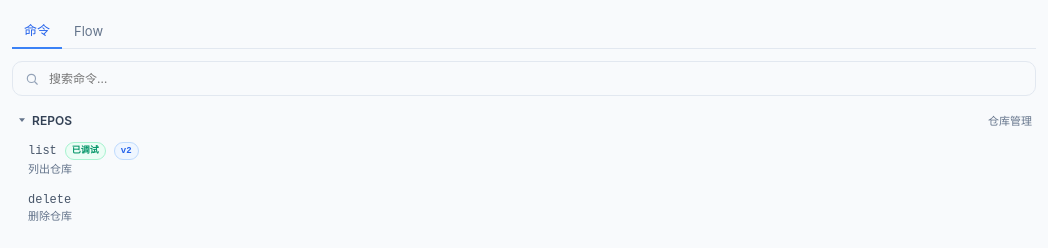
CommandTree 分组折叠/展开 › 再次点击分组标题展开：命令项恢复
This screenshot has width=1048, height=248.
Click the button with test id "group-header". click: (52, 120)
box: [12,112,1036,128]
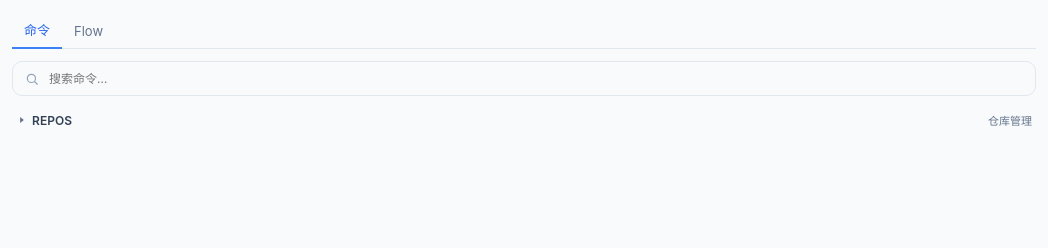
Now no buttons with test id "tree-item" are shown
Click the button with test id "group-header". click: (52, 120)
box: [12,112,1036,128]
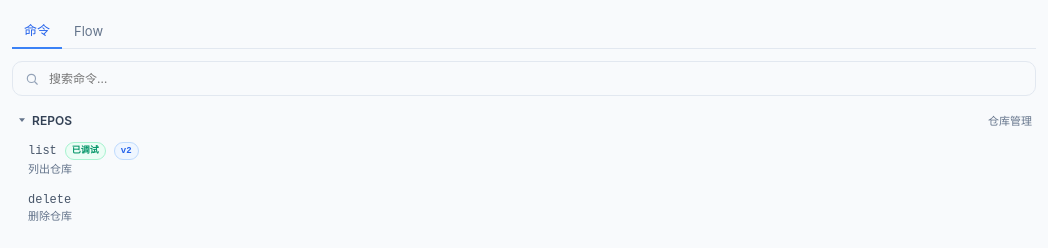
Now the number of buttons with test id "tree-item" is 2, box [12,136,1036,184]; [12,186,1036,231]
